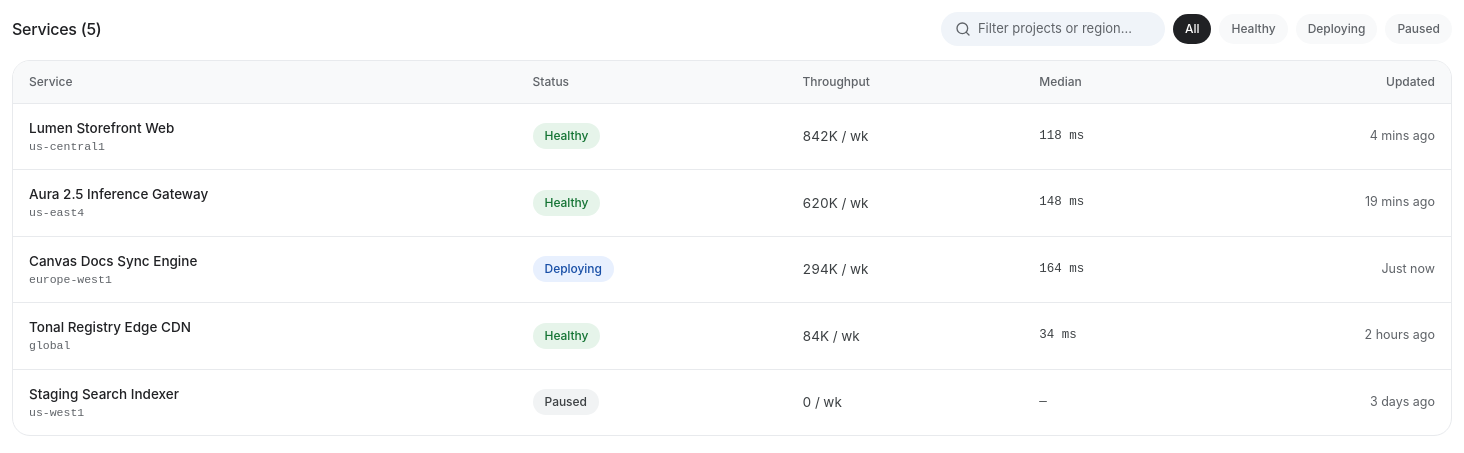
Test: Tonal primitives & blocks › filters TonalTable rows and resets empty state
In the search field with placeholder "Filter projects or region...": (1053, 29) [941,12,1165,46], type "zzzz-nonexistent"
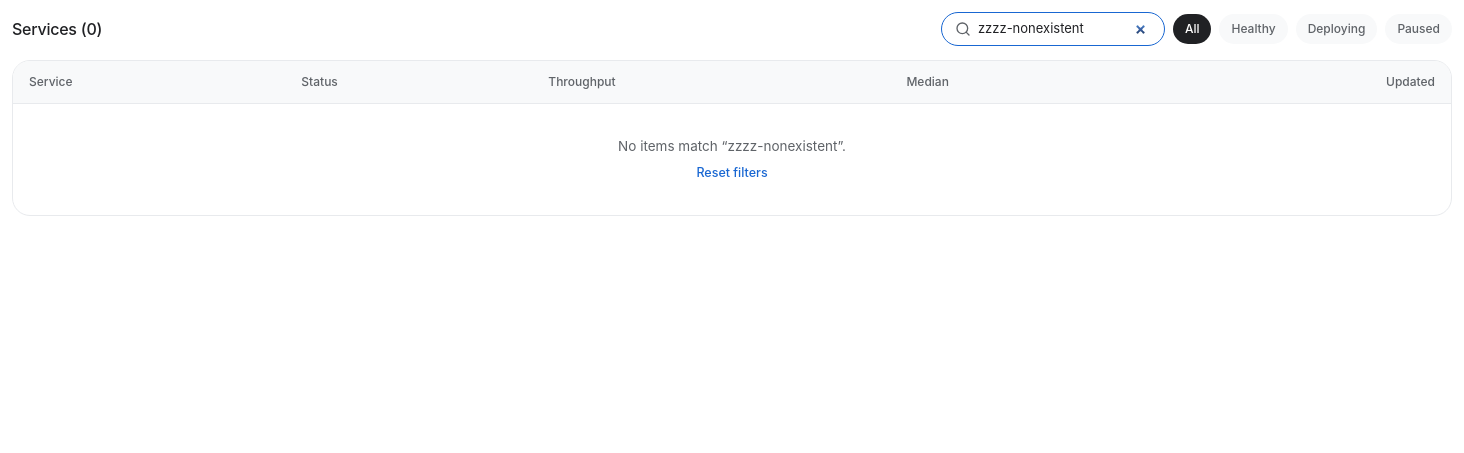
Expected: the text "No items match “zzzz-nonexistent”." is shown, [618,138,846,154]
Click the button "Reset filters": (732, 173) [696,164,768,183]
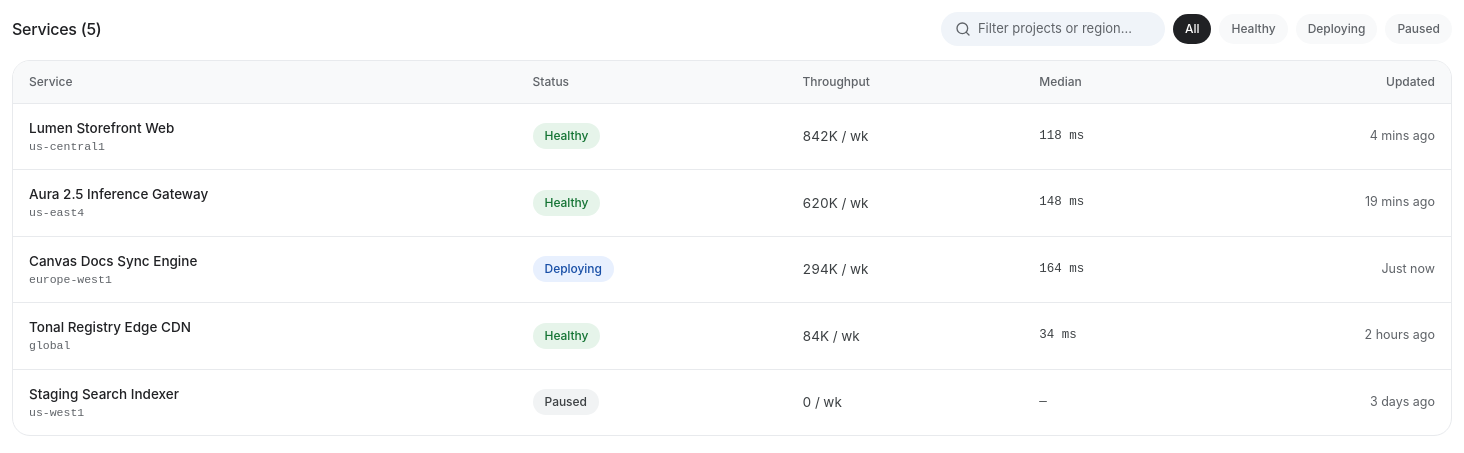
Expected: the text "Lumen Storefront Web" is shown, [29,120,174,136]
